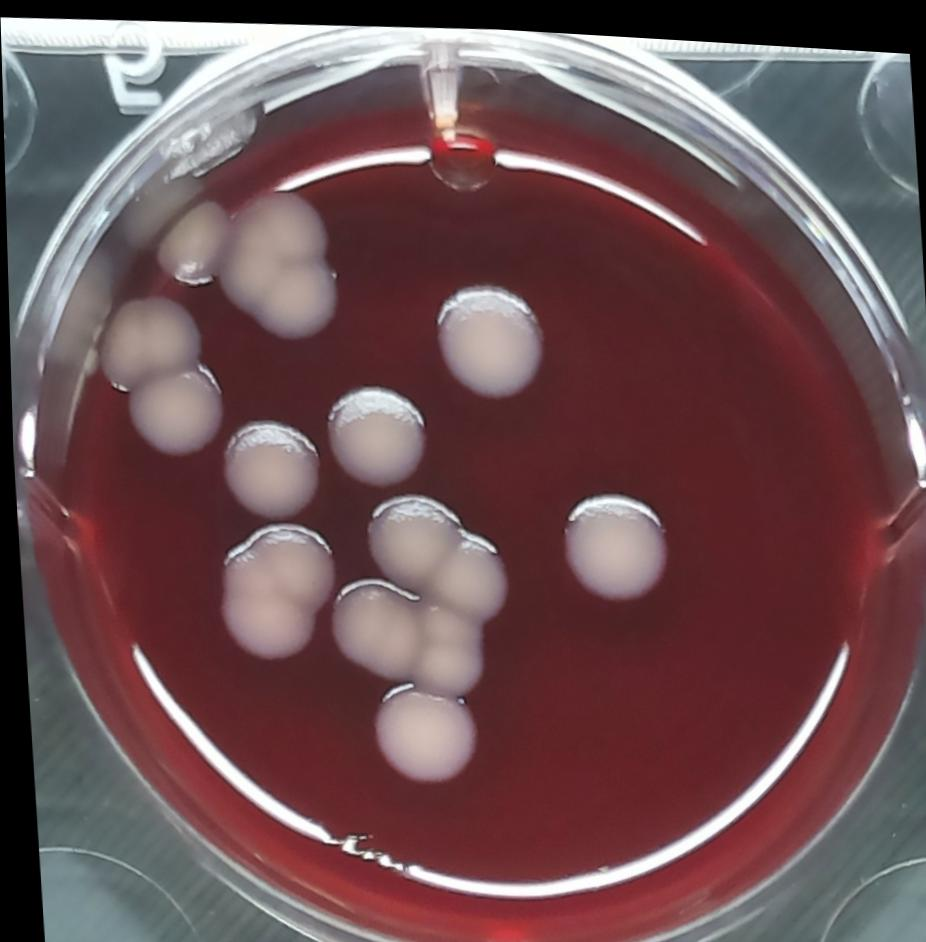bcereus: (359, 478, 515, 630), (216, 177, 345, 349), (324, 565, 486, 695), (211, 512, 339, 669), (420, 263, 553, 406), (548, 473, 673, 607), (312, 371, 432, 491), (89, 282, 207, 397), (209, 407, 322, 521), (363, 673, 479, 784), (121, 357, 230, 460), (148, 189, 230, 292)
